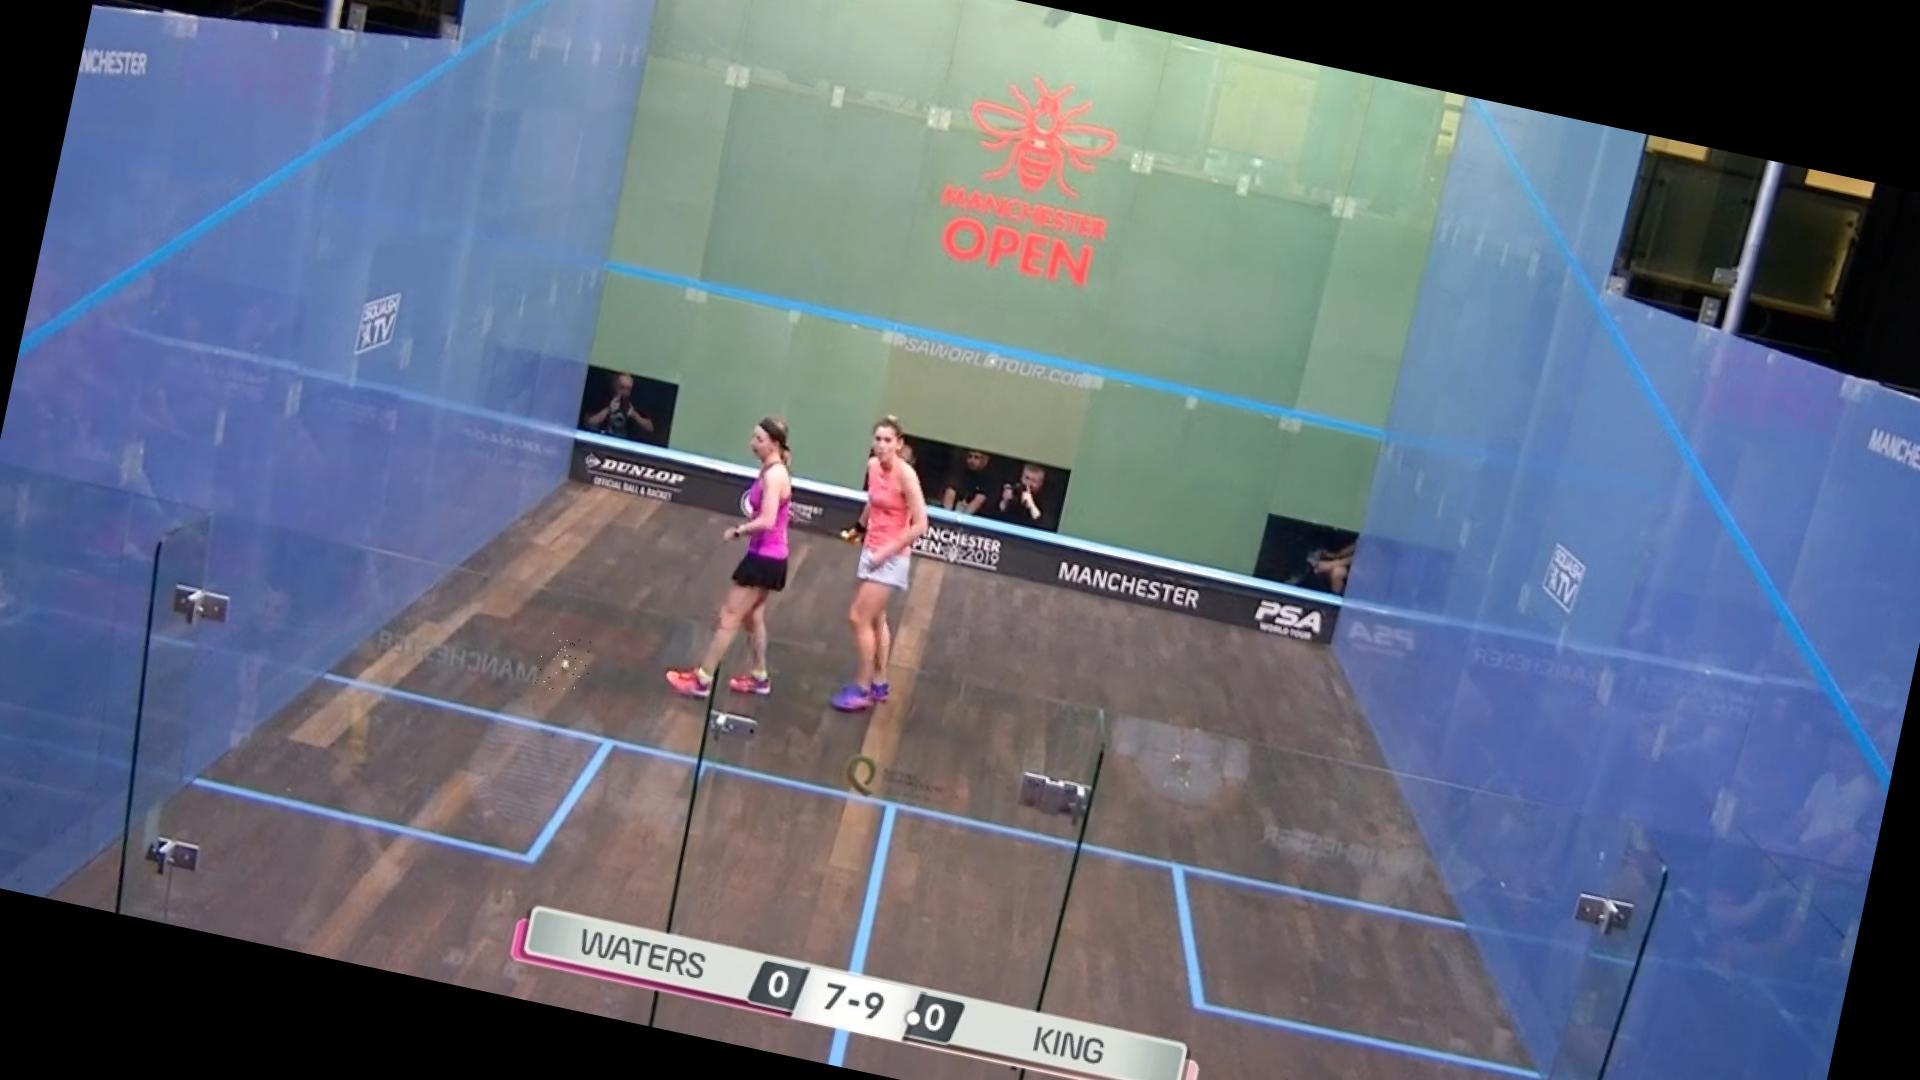Squash-Ball: (531, 630, 595, 698)
